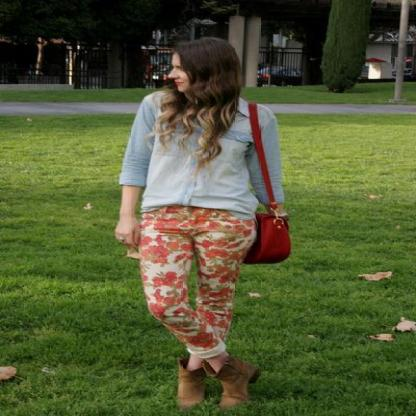bag: (231, 100, 290, 264)
pants: (127, 203, 256, 357)
shirt: (119, 91, 289, 224)
shoe: (169, 349, 249, 415)
